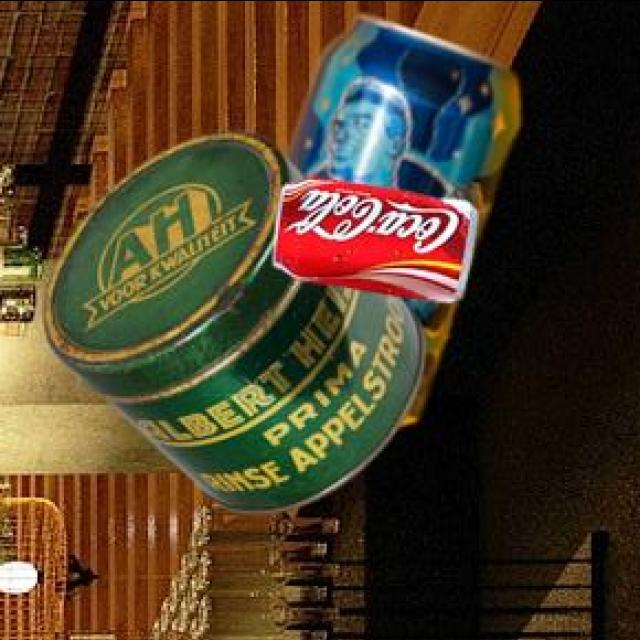logam: (47, 127, 427, 509), (290, 12, 522, 420), (277, 173, 480, 299)
